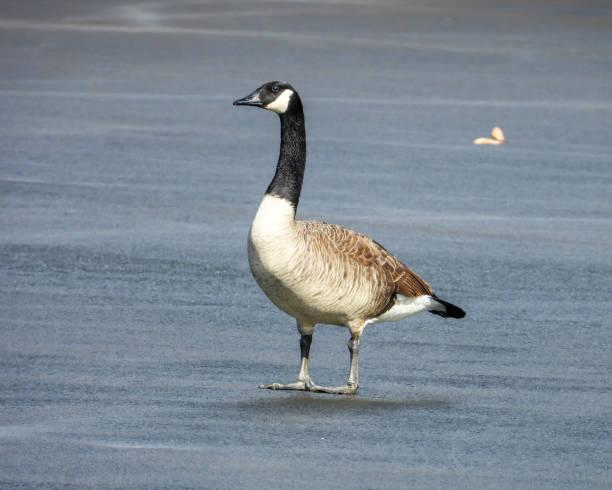Canadian-Goose: (236, 78, 467, 406)
